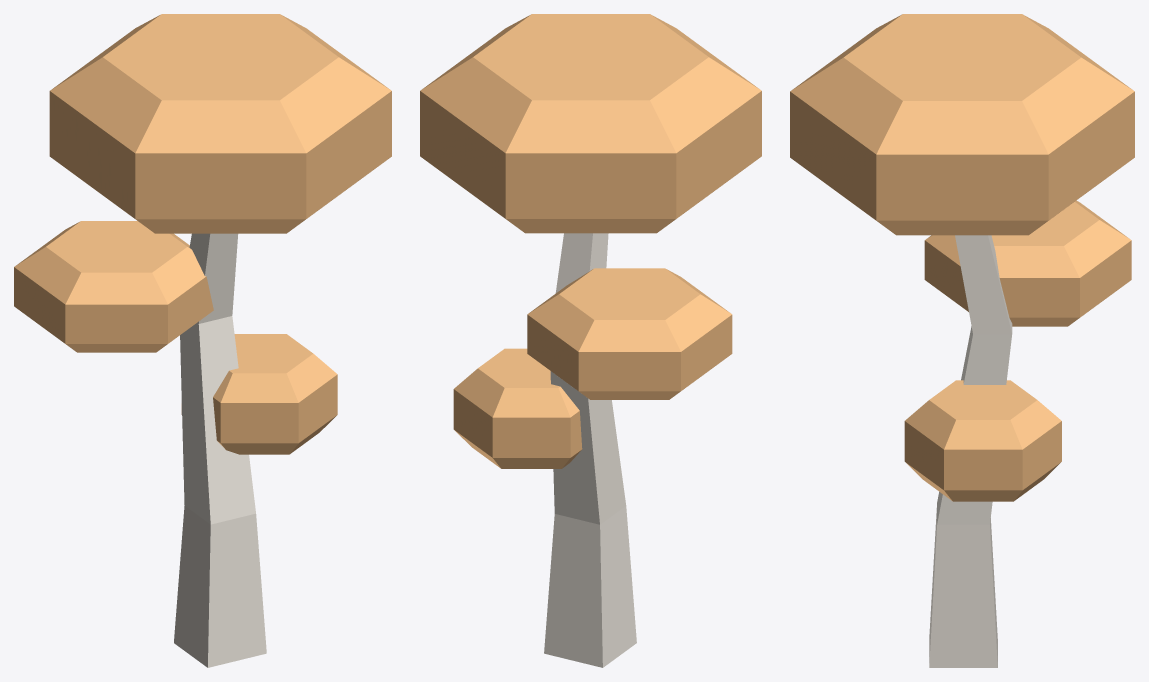
File: tree_plateau_fall.glb
The picture shows the model from 3 angles, left to right: view 1: azimuth 30°, elevation 25°; view 2: azimuth 150°, elevation 25°; view 3: azimuth 270°, elevation 25°; orthographic projection.
Visible parts, largest first — view 1: tree_plateau_fall; view 2: tree_plateau_fall; view 3: tree_plateau_fall.
Part boxes in pixels (x1=…): tree_plateau_fall: x1=14, y1=14, x2=391, y2=667; tree_plateau_fall: x1=420, y1=14, x2=761, y2=667; tree_plateau_fall: x1=790, y1=14, x2=1134, y2=667.
Bounding box in the file's own units: 0.6117 × 1.25 × 0.6549.
